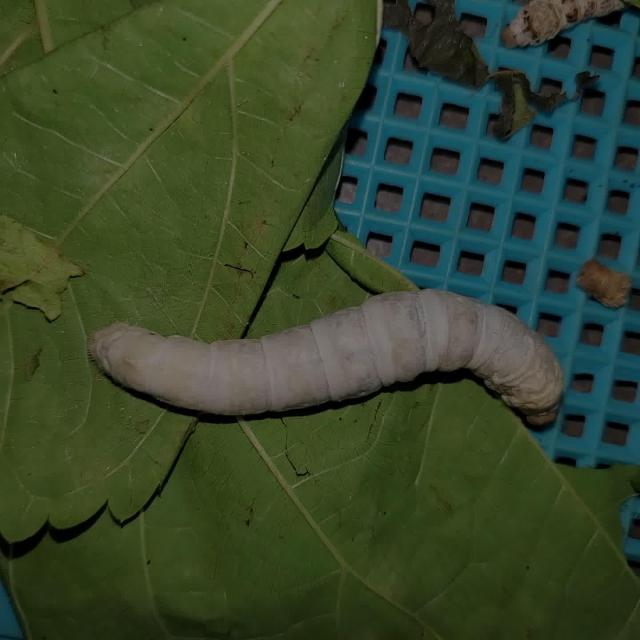Grasserie: (72, 236, 580, 504)
